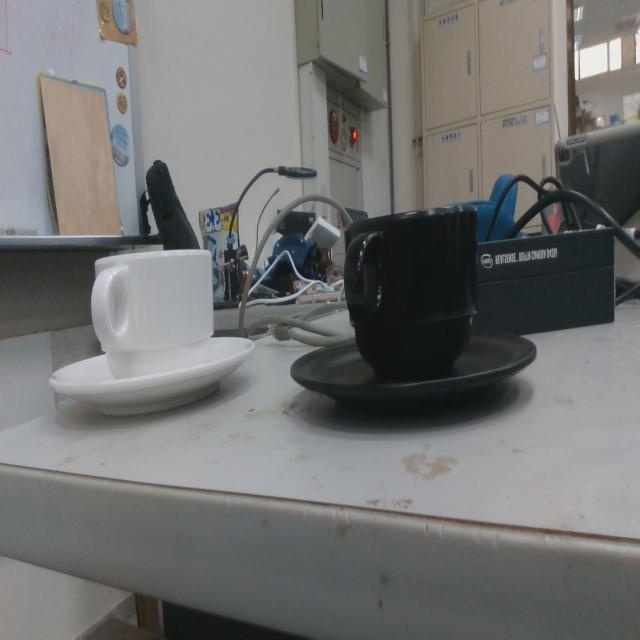black: (287, 202, 539, 420)
white: (47, 245, 256, 422)
